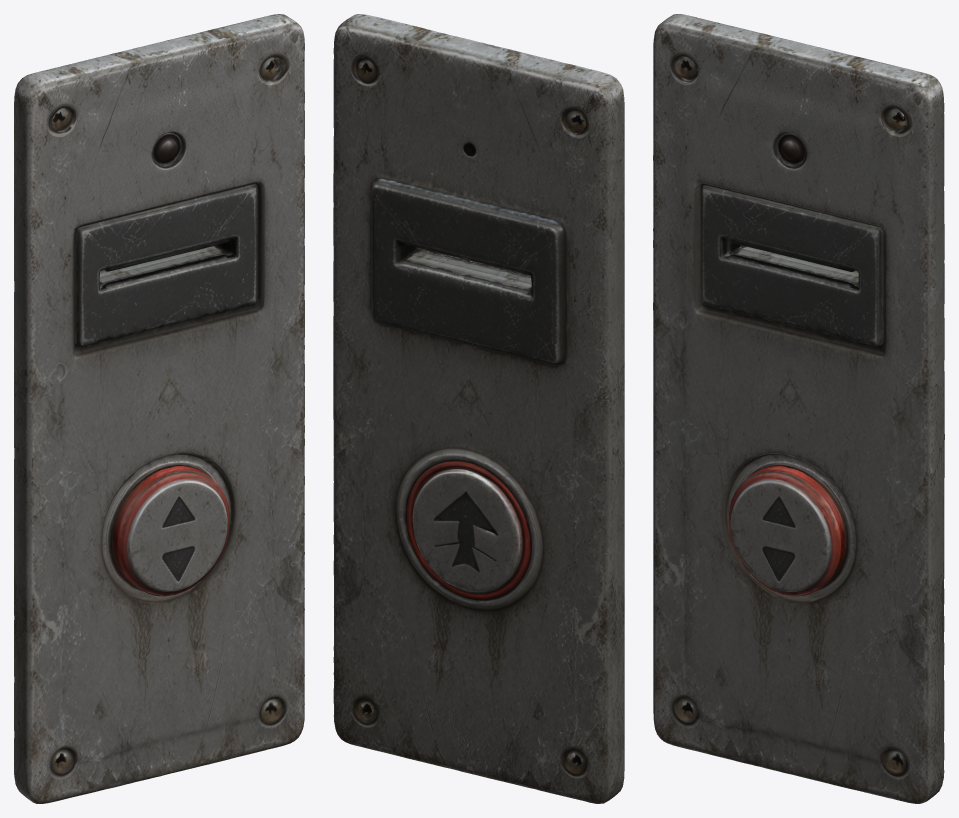
The model's file is ElevatorCallPanel.fbx.
3 views of the same model, side by side, from view 1: azimuth 30°, elevation 25°; view 2: azimuth 150°, elevation 25°; view 3: azimuth 330°, elevation 25° (orthographic).
Parts seen in each view (by area): view 1: texture_mapping; view 2: texture_mapping; view 3: texture_mapping.
Boxes of the visible parts, bbox=[...] form: texture_mapping: bbox=[14, 14, 304, 803]; texture_mapping: bbox=[333, 14, 624, 803]; texture_mapping: bbox=[653, 14, 944, 803].
Size of the model in its own units: 0.4059 by 0.0868 by 1.
Materials: 1 (1 with a texture image).
